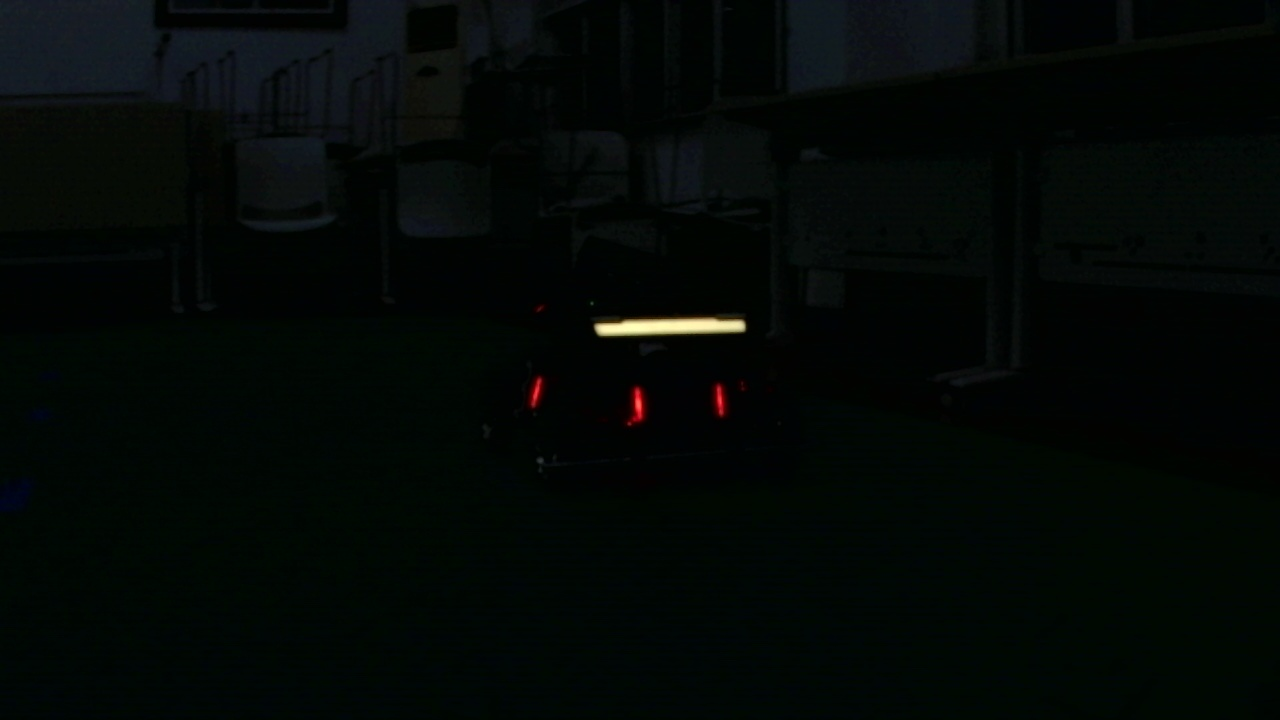lamp: (711, 376, 728, 419), (632, 381, 647, 420), (529, 374, 544, 412)
pair1: (634, 382, 725, 419)
